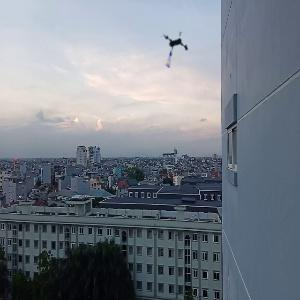drone: (158, 30, 198, 70)
